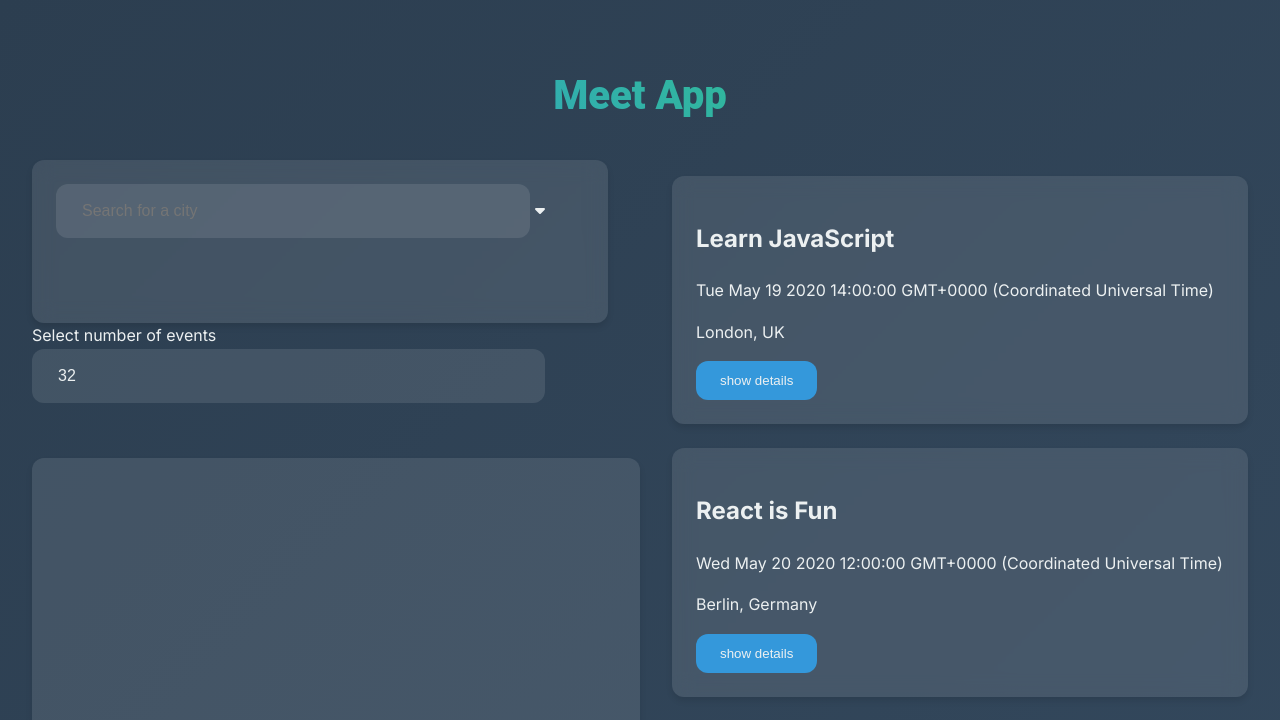
App › searches for events by city
The image size is (1280, 720).
Expected: the heading "Meet App" is shown, [32,64,1248,128]
Note: Find and click the search input
Type "Berlin" into the field with placeholder "Search for a city" at x=293, y=211, box [56,184,530,238]
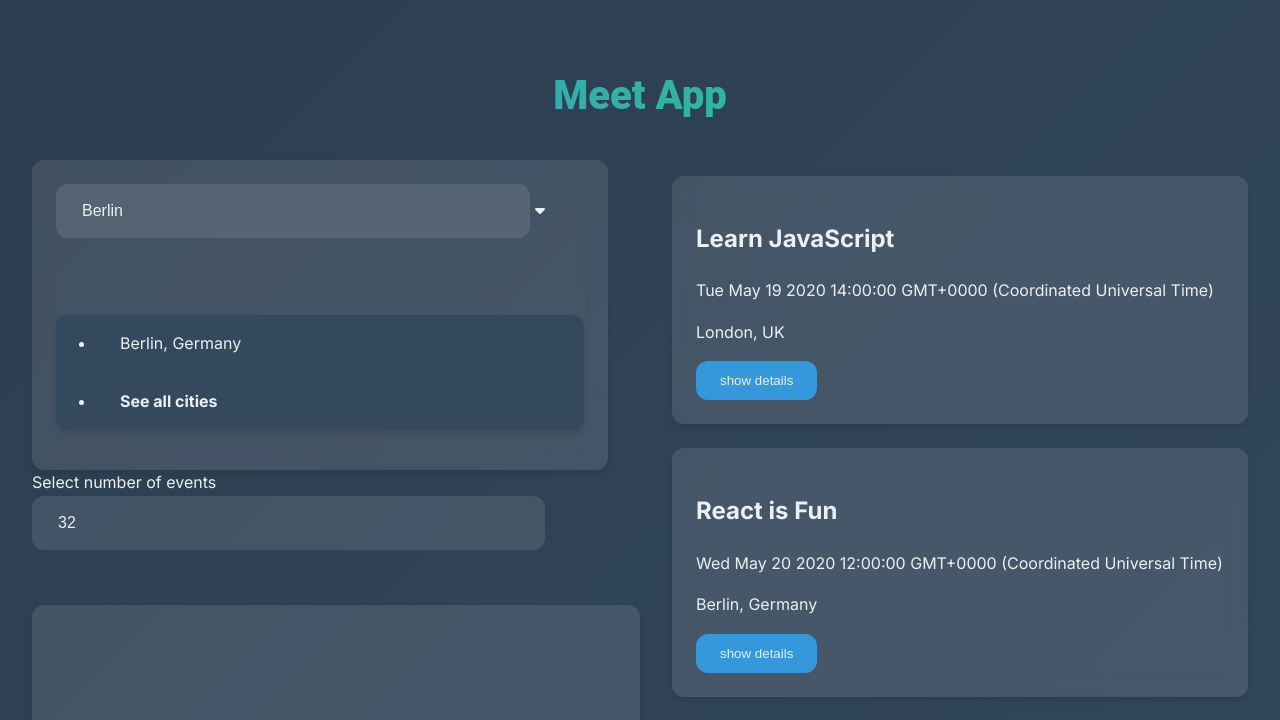
Note: Use a more specific selector to find the suggestion list item
Click the list item "Berlin, Germany" at x=181, y=343, box [120,333,241,353]
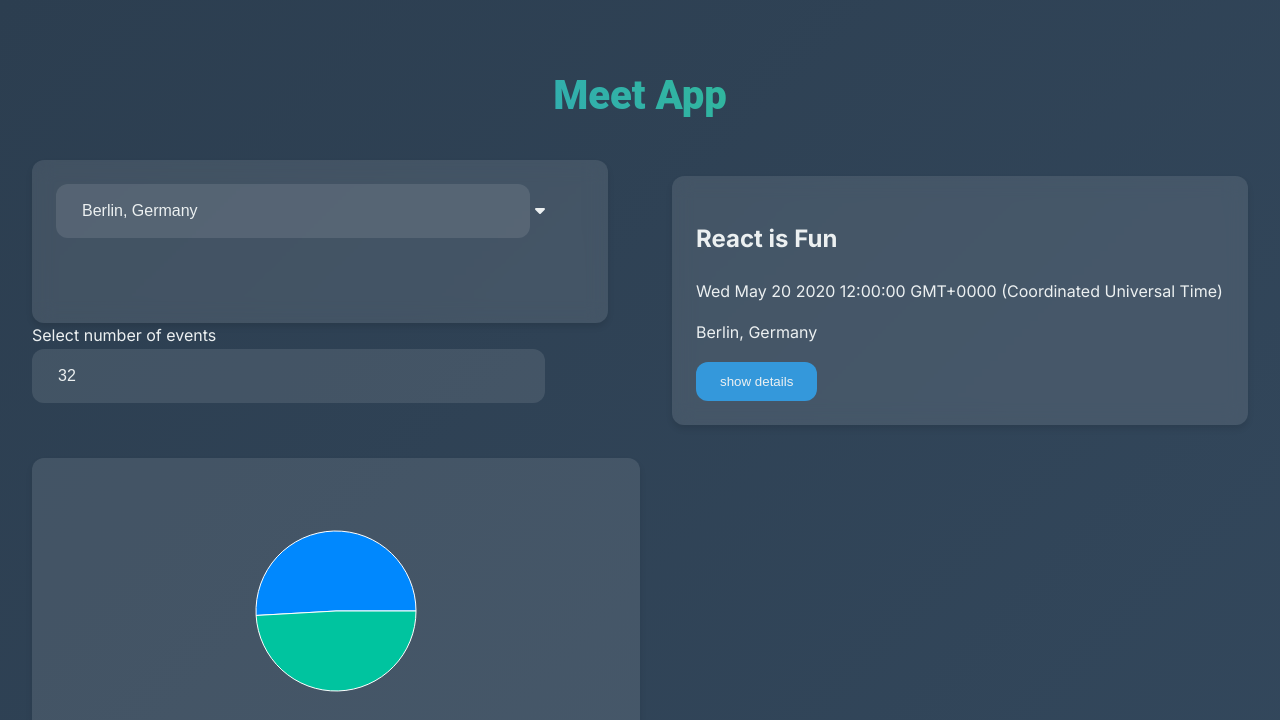
Expected: the heading "React is Fun" is shown, [696,224,837,253]
Result: the heading "Learn JavaScript" is gone
